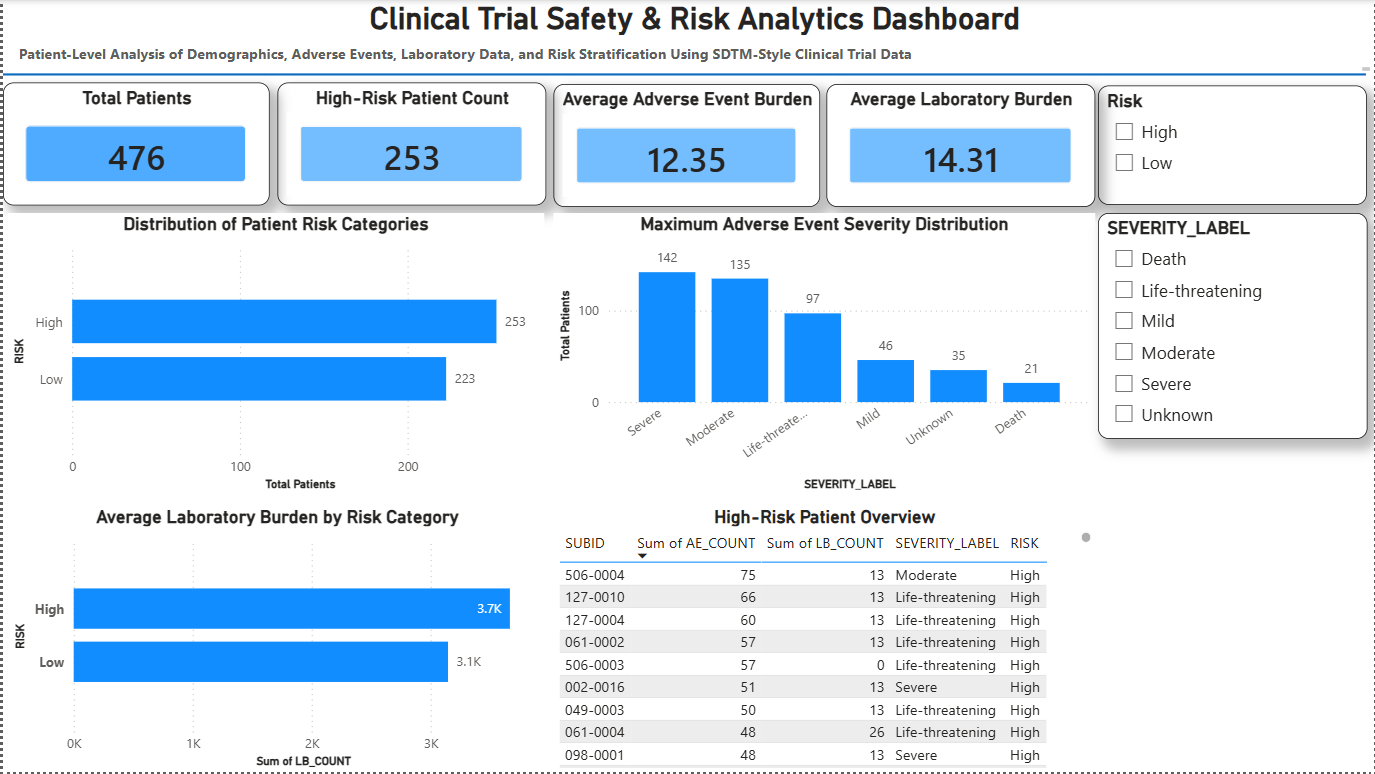

The page's visual inventory and layout, read from the dashboard file:
{"tool":"powerbi","page":{"name":"Page 1","canvas":[1280,720],"ordinal":0},"visuals":[{"type":"textbox","title":"Clinical Trial Safety & Risk Analytics Dashboard","box":[9.5,0,1271.1,69.3],"z":0},{"type":"shape","box":[0,61.4,1271.1,15.8],"z":1000},{"type":"cardVisual","title":"Total Patients","fields":{"Data":["final_clinical_dataset.Total Patients"]},"box":[0,77.2,248.9,115],"z":2000},{"type":"cardVisual","title":"High-Risk Patient Count","fields":{"Data":["final_clinical_dataset.Total Patients"]},"box":[255.7,77.2,250.4,115],"z":3000},{"type":"cardVisual","title":"Average Adverse Event Burden","fields":{"Data":["Avg(final_clinical_dataset.AE_COUNT)"]},"box":[513,78.8,248.9,115],"z":4000},{"type":"cardVisual","title":"Average Laboratory Burden","fields":{"Data":["Avg(final_clinical_dataset.LB_COUNT)"]},"box":[768.6,78.8,250.4,115],"z":5000},{"type":"clusteredBarChart","title":"Distribution of Patient Risk Categories","fields":{"Y":["final_clinical_dataset.Total Patients"],"Category":["final_clinical_dataset.RISK"]},"box":[4.7,198.5,500.9,263],"z":6000},{"type":"clusteredColumnChart","title":"Maximum Adverse Event Severity Distribution","fields":{"Y":["final_clinical_dataset.Total Patients"],"Category":["final_clinical_dataset.SEVERITY_LABEL"]},"box":[513.5,198.5,505.6,263],"z":7000},{"type":"barChart","title":"Average Laboratory Burden by Risk Category","fields":{"Y":["Sum(final_clinical_dataset.LB_COUNT)"],"Category":["final_clinical_dataset.RISK"]},"box":[5,471,501,249],"z":8000},{"type":"tableEx","title":"High-Risk Patient Overview","fields":{"Values":["final_clinical_dataset.SUBID","Sum(final_clinical_dataset.AE_COUNT)","Sum(final_clinical_dataset.LB_COUNT)","final_clinical_dataset.SEVERITY_LABEL","final_clinical_dataset.RISK"]},"box":[513,471,506,249],"z":9000},{"type":"slicer","title":"Risk","fields":{"Values":["final_clinical_dataset.RISK"]},"box":[1021.2,79.5,250.7,111.6],"z":10000},{"type":"slicer","title":"SEVERITY_LABEL","fields":{"Values":["final_clinical_dataset.SEVERITY_LABEL"]},"box":[1021.4,198.8,251.5,210.5],"z":11000}]}

Visuals, with their boxes in screenshot pixels (x1, y1, x2, y2), scaled from the page's 1280x720 canvas onto the 1375x774 screenshot:
"Clinical Trial Safety & Risk Analytics Dashboard" textbox: [10, 0, 1374, 74]
shape: [0, 66, 1365, 83]
"Total Patients" cardVisual: [0, 83, 267, 207]
"High-Risk Patient Count" cardVisual: [275, 83, 544, 207]
"Average Adverse Event Burden" cardVisual: [551, 85, 818, 208]
"Average Laboratory Burden" cardVisual: [826, 85, 1095, 208]
"Distribution of Patient Risk Categories" clusteredBarChart: [5, 213, 543, 496]
"Maximum Adverse Event Severity Distribution" clusteredColumnChart: [552, 213, 1095, 496]
"Average Laboratory Burden by Risk Category" barChart: [5, 506, 544, 773]
"High-Risk Patient Overview" tableEx: [551, 506, 1095, 773]
"Risk" slicer: [1097, 85, 1366, 205]
"SEVERITY_LABEL" slicer: [1097, 214, 1367, 440]
